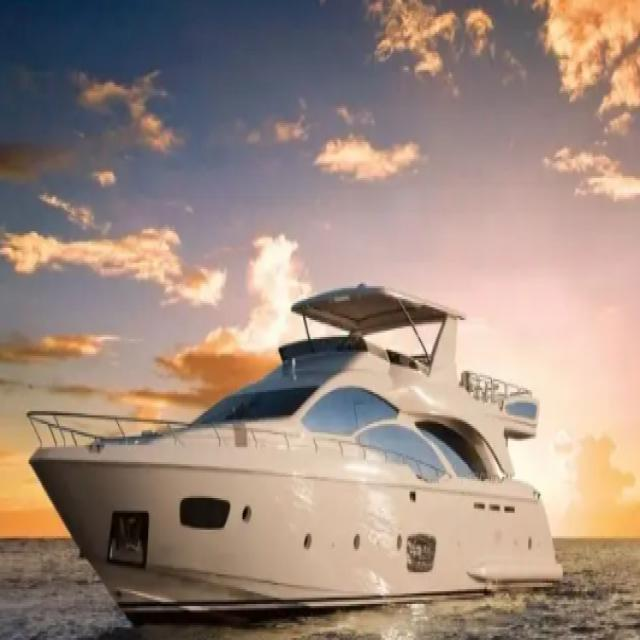houseboat: (28, 273, 574, 614)
